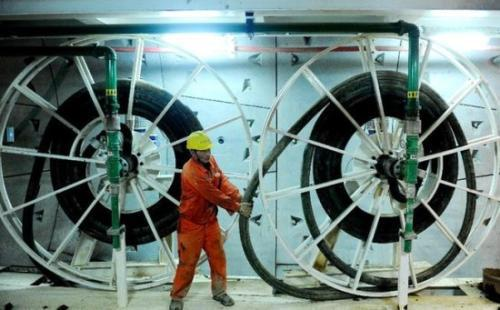helmet: (185, 129, 216, 160)
